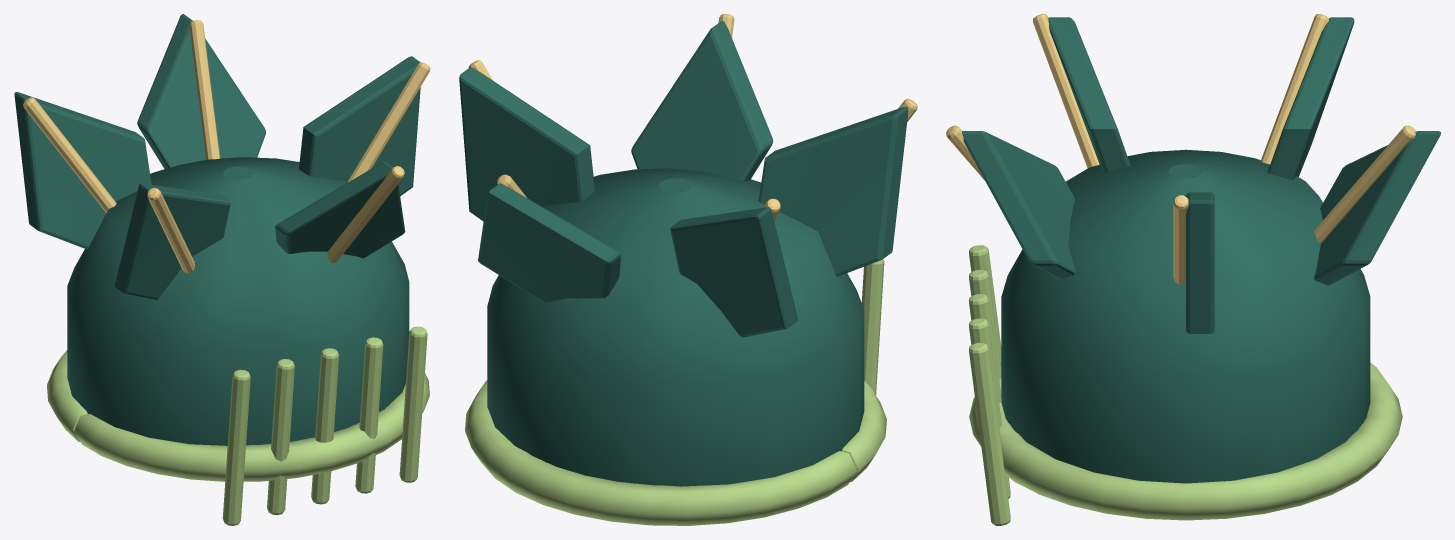
The model's file is item_072.glb.
3 renders of one model, left to right at view 1: azimuth 30°, elevation 25°; view 2: azimuth 150°, elevation 25°; view 3: azimuth 270°, elevation 25°, orthographic. The views are drawn at different scales.
Parts seen in each view (by area): view 1: Item_072_lily_gate_helm; view 2: Item_072_lily_gate_helm; view 3: Item_072_lily_gate_helm.
Part boxes in pixels (x1=…): Item_072_lily_gate_helm: x1=14, y1=14, x2=430, y2=525; Item_072_lily_gate_helm: x1=459, y1=14, x2=917, y2=525; Item_072_lily_gate_helm: x1=946, y1=14, x2=1440, y2=525.
Bounding box in the file's own units: 0.4016 × 0.3631 × 0.4291.
